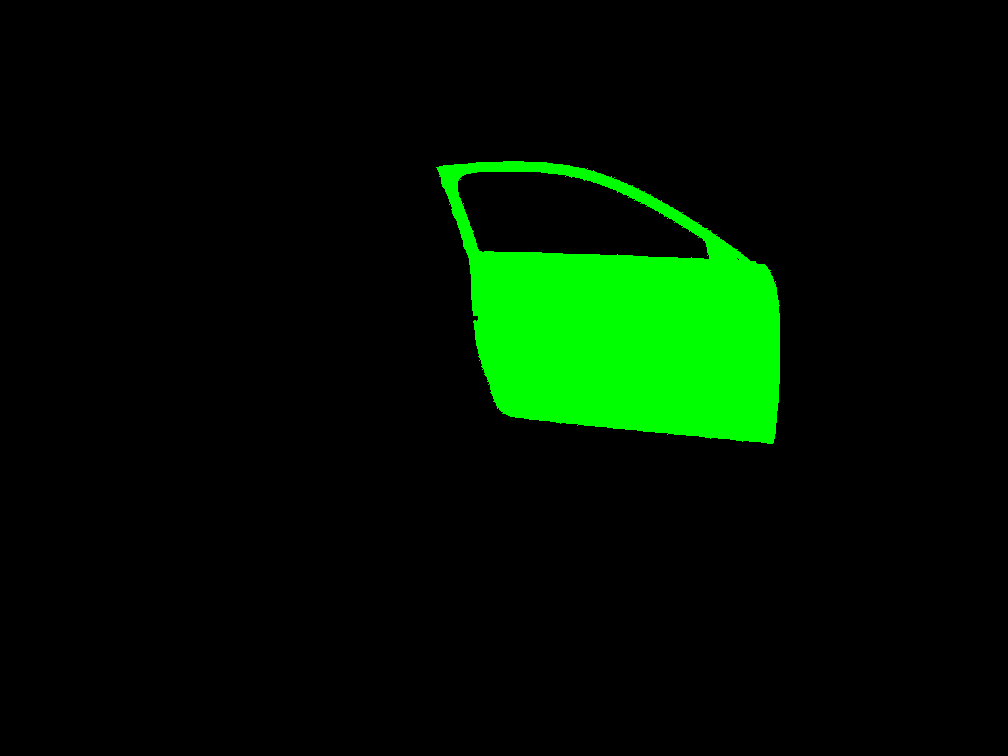car_door: (436, 161, 779, 443)
